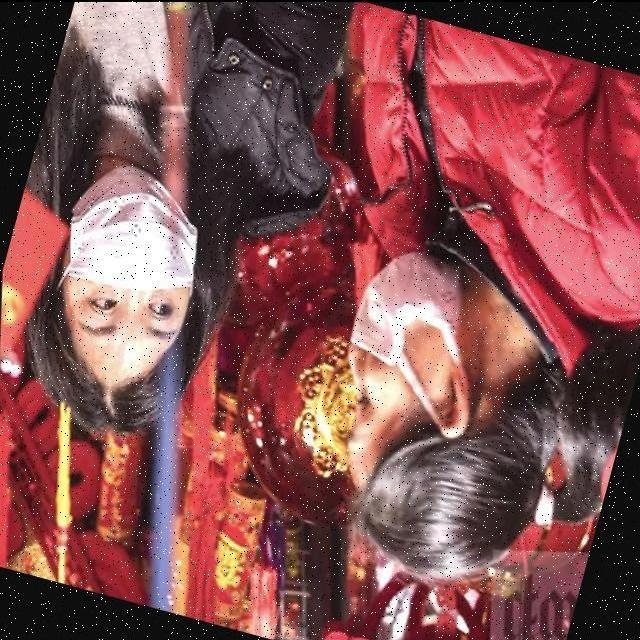mask: (60, 180, 188, 288), (362, 266, 444, 354)
